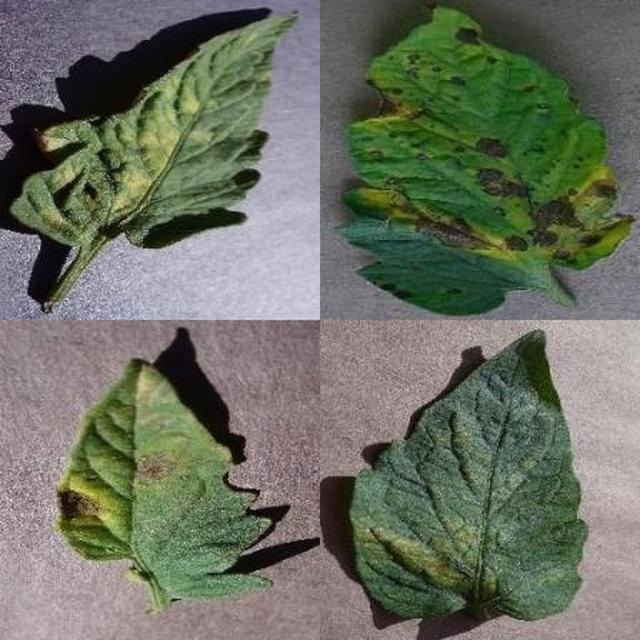Leaf Mold: (220, 187, 640, 640)
